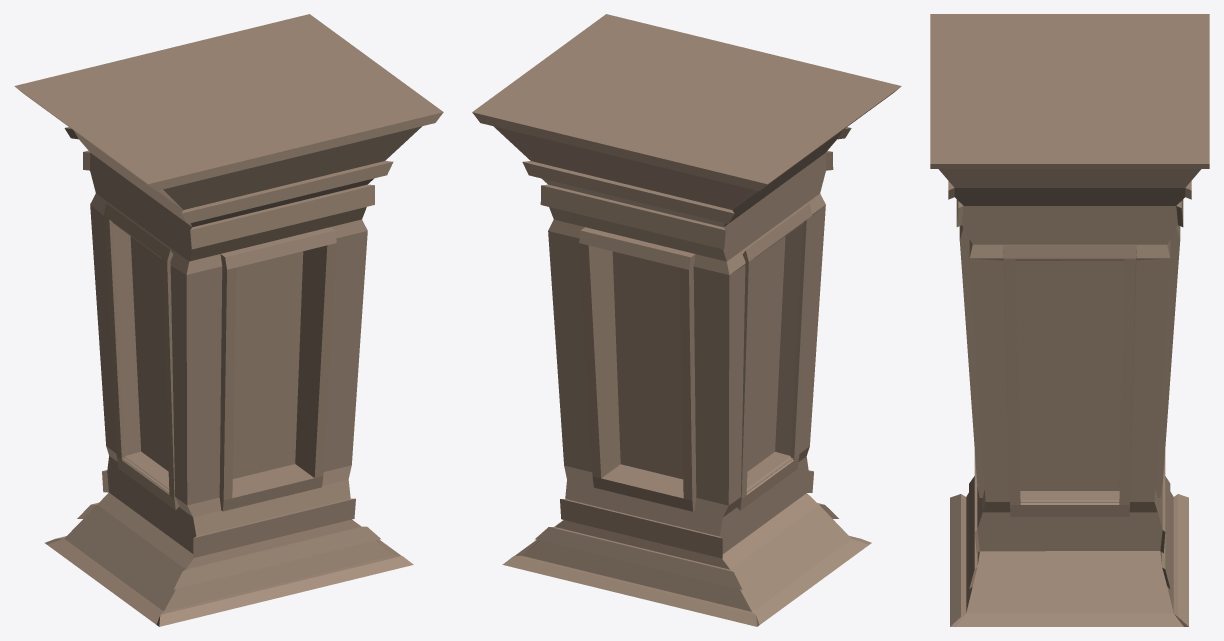
File: pedestal.glb
3 views of the same model, side by side, from view 1: azimuth 30°, elevation 25°; view 2: azimuth 150°, elevation 25°; view 3: azimuth 270°, elevation 25° (orthographic). The views are drawn at different scales.
Visible parts, largest first — view 1: Cube.005; view 2: Cube.005; view 3: Cube.005.
Part boxes in pixels (x1=…): Cube.005: x1=14, y1=14, x2=443, y2=626; Cube.005: x1=472, y1=14, x2=901, y2=626; Cube.005: x1=930, y1=14, x2=1209, y2=626.
Size of the model in its own units: 1.83 by 2.68 by 1.43.
